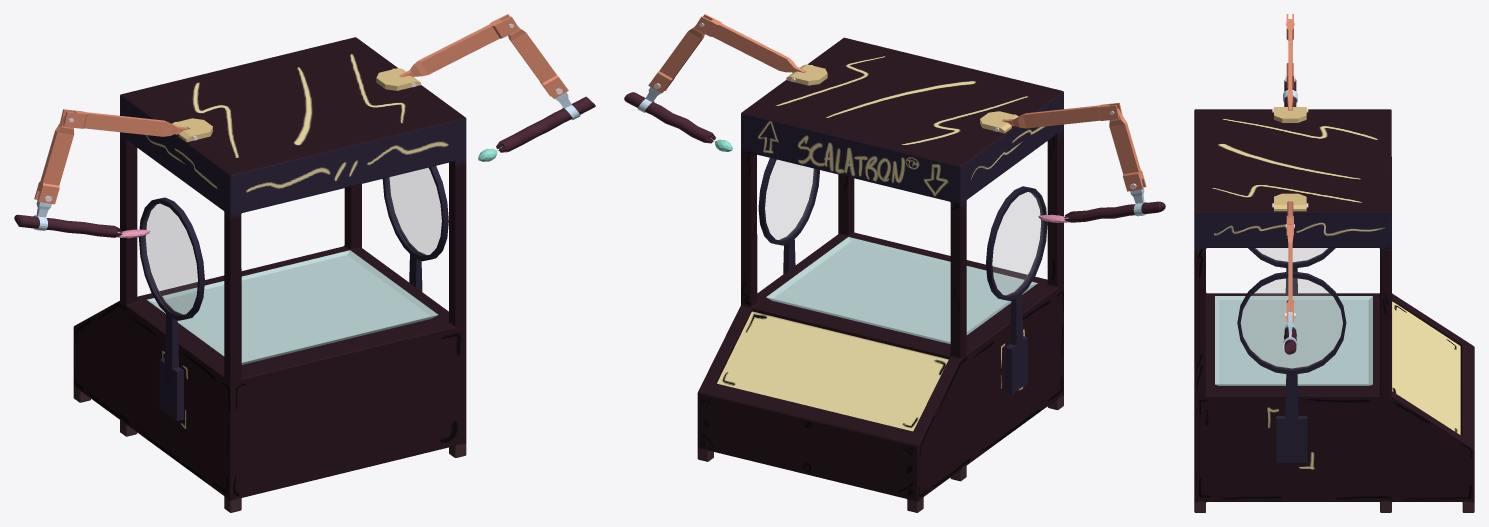
File: maquinaTamanho.fbx
3 views of the same model, side by side, from view 1: azimuth 30°, elevation 25°; view 2: azimuth 150°, elevation 25°; view 3: azimuth 270°, elevation 25° (orthographic). The views are drawn at different scales.
Visible parts, largest first — view 1: Maquina, Cube, Lupa, Braço1, Braço1.001, Varinha, Braço2.001, Varinha.001, Braço2, Dobradiça, Dobradiça.001; view 2: Maquina, Cube, Lupa, Braço1, Braço1.001, Braço2.001, Varinha, Varinha.001, Braço2; view 3: Maquina, Cube, Lupa, Braço1.001, Braço2, Dobradiça, Dobradiça.001, Varinha.
Boxes of the visible parts, x1,y1,x2,y2 form: Maquina: (73,37,466,512); Cube: (147,250,438,364); Lupa: (138,166,448,420); Braço1: (392,14,519,86); Braço1.001: (60,109,197,140); Varinha: (496,88,595,152); Braço2.001: (34,115,74,204); Varinha.001: (14,192,122,237); Braço2: (508,23,568,98); Dobradiça: (376,68,420,90); Dobradiça.001: (172,118,212,141); Maquina: (697,37,1063,512); Cube: (766,237,1037,344); Lupa: (758,158,1047,394); Braço1: (694,14,812,81); Braço1.001: (994,102,1122,131); Braço2.001: (1109,108,1146,191); Varinha: (624,83,715,143); Varinha.001: (1064,180,1165,222); Braço2: (648,23,704,93); Maquina: (1194,109,1474,512); Cube: (1215,296,1372,385); Lupa: (1237,248,1346,462); Braço1.001: (1272,14,1308,112); Braço2: (1285,224,1294,322); Dobradiça: (1274,193,1306,211); Dobradiça.001: (1274,107,1306,122); Varinha: (1283,312,1297,354).
Bounding box in the file's own units: 487 × 316 × 230.
